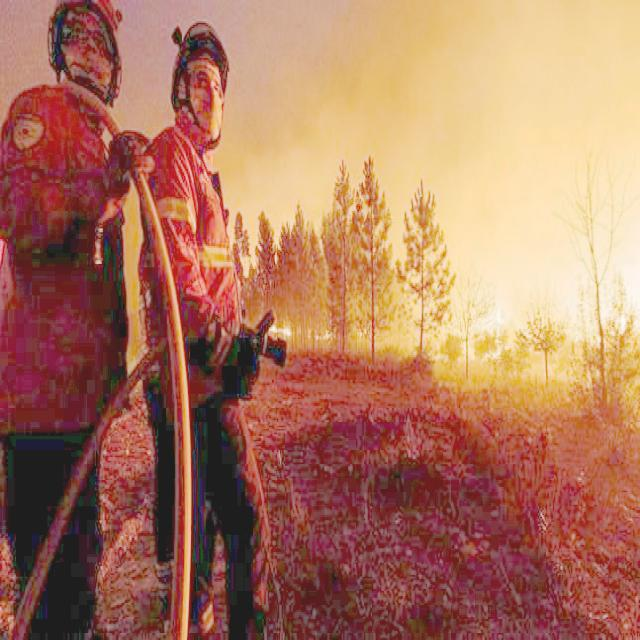api: (473, 301, 515, 354)
asap: (212, 1, 632, 243)
